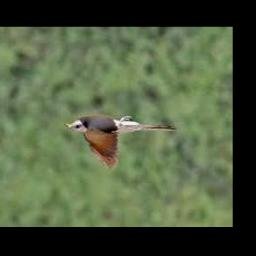Cuckoo: (65, 116, 176, 170)
